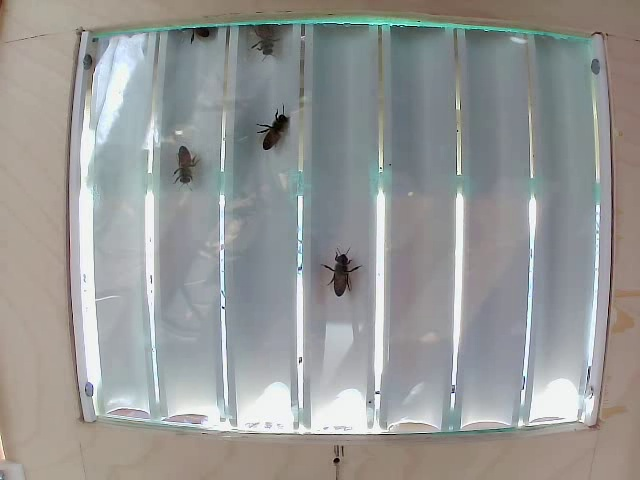bee: (261, 103, 289, 153), (330, 250, 362, 290), (173, 145, 200, 189)
